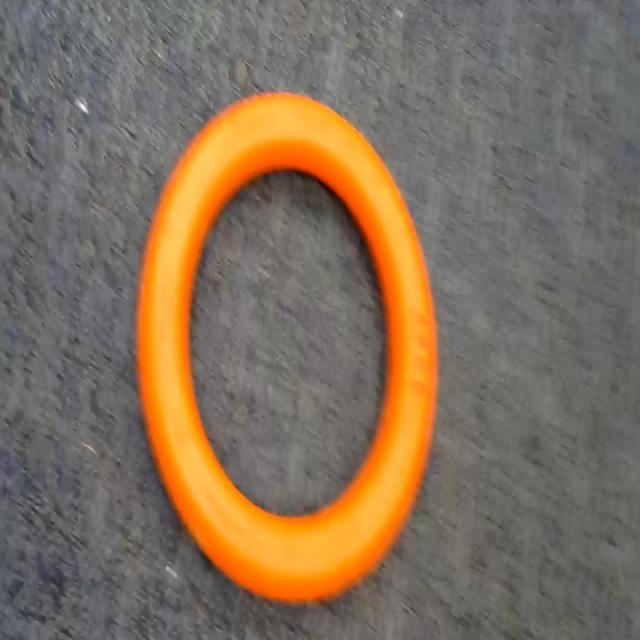note: (132, 84, 442, 609)
